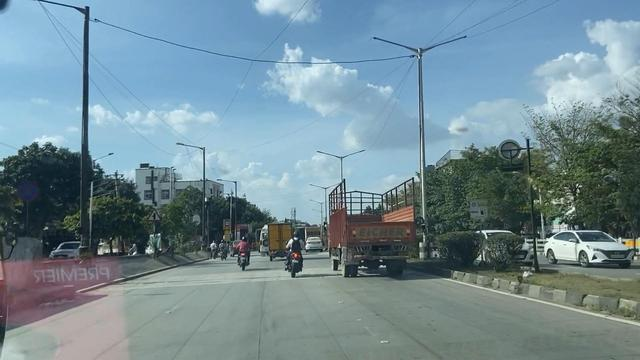HMV: (323, 181, 415, 276)
LMV: (287, 234, 306, 274), (236, 231, 251, 269)
SpeedBump: (132, 264, 290, 286)
